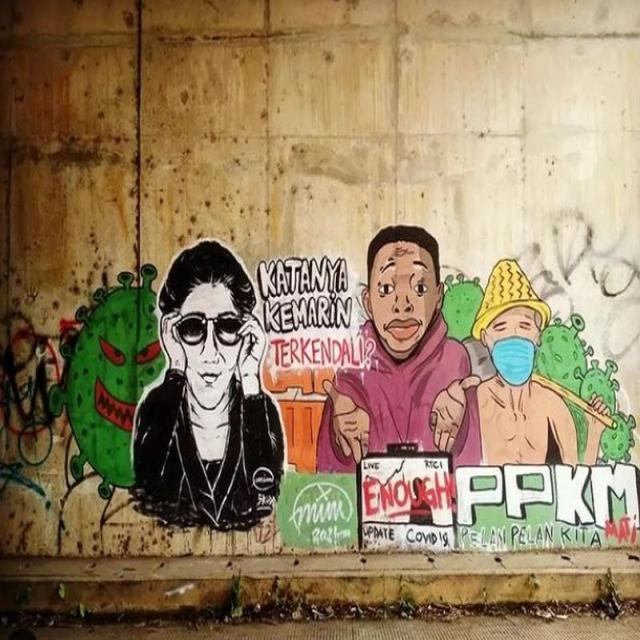-: (48, 224, 640, 546), (521, 208, 638, 298), (1, 300, 62, 464), (2, 464, 44, 506)
